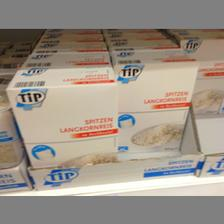Reis: (4, 68, 118, 168), (110, 50, 198, 150), (176, 34, 224, 119)
